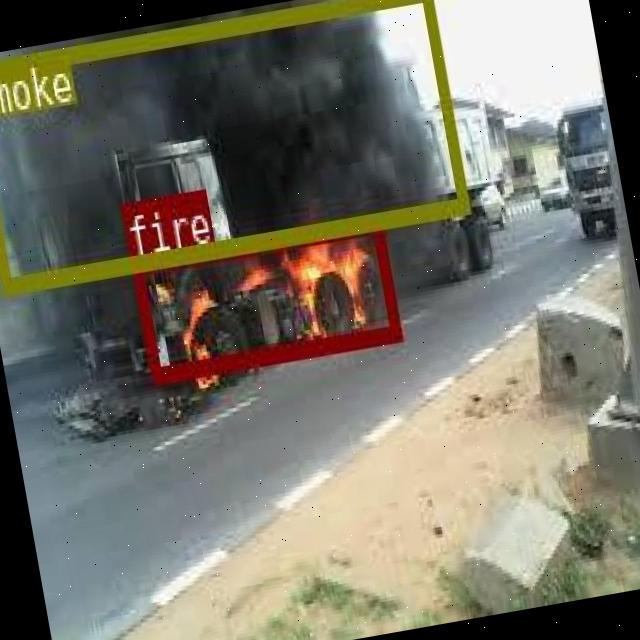fire: (128, 214, 399, 380)
smoke: (0, 0, 466, 293)
